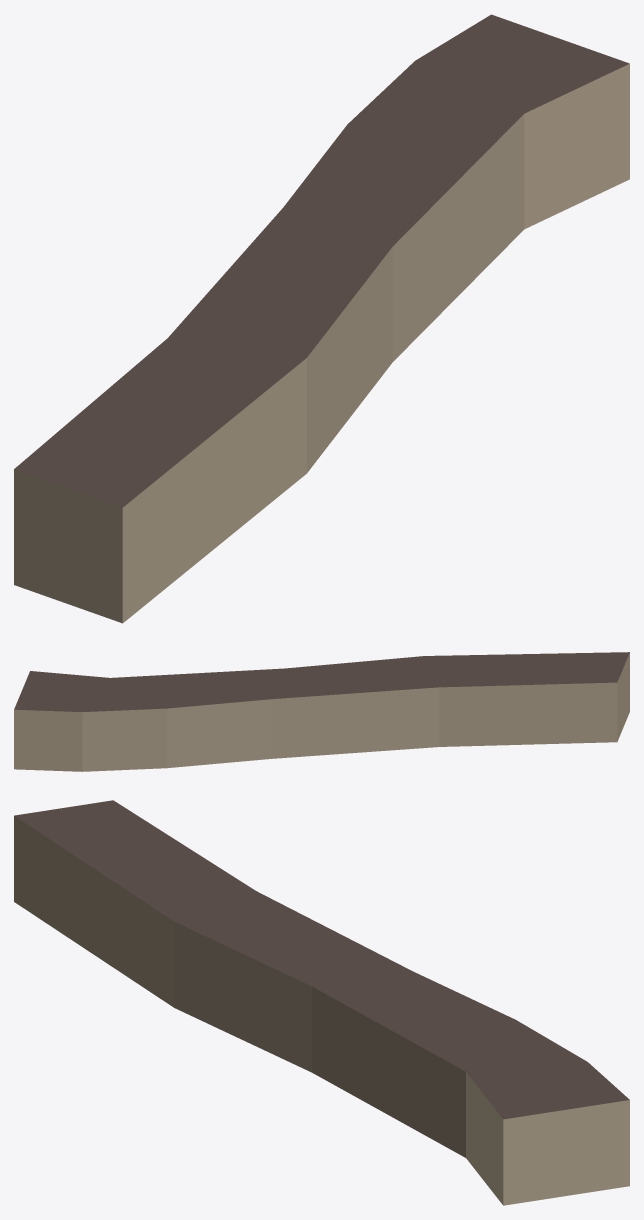
The picture shows the model from 3 angles, top to bottom: view 1: azimuth 30°, elevation 25°; view 2: azimuth 150°, elevation 25°; view 3: azimuth 270°, elevation 25°; orthographic projection. The views are drawn at different scales.
Parts seen in each view (by area): view 1: HP-w369342447; view 2: HP-w369342447; view 3: HP-w369342447.
Part boxes in pixels (bbox=[...]): HP-w369342447: bbox=[14, 14, 629, 623]; HP-w369342447: bbox=[14, 652, 629, 771]; HP-w369342447: bbox=[14, 800, 629, 1205].
Size of the model in its own units: 71.4 by 9 by 58.23.
